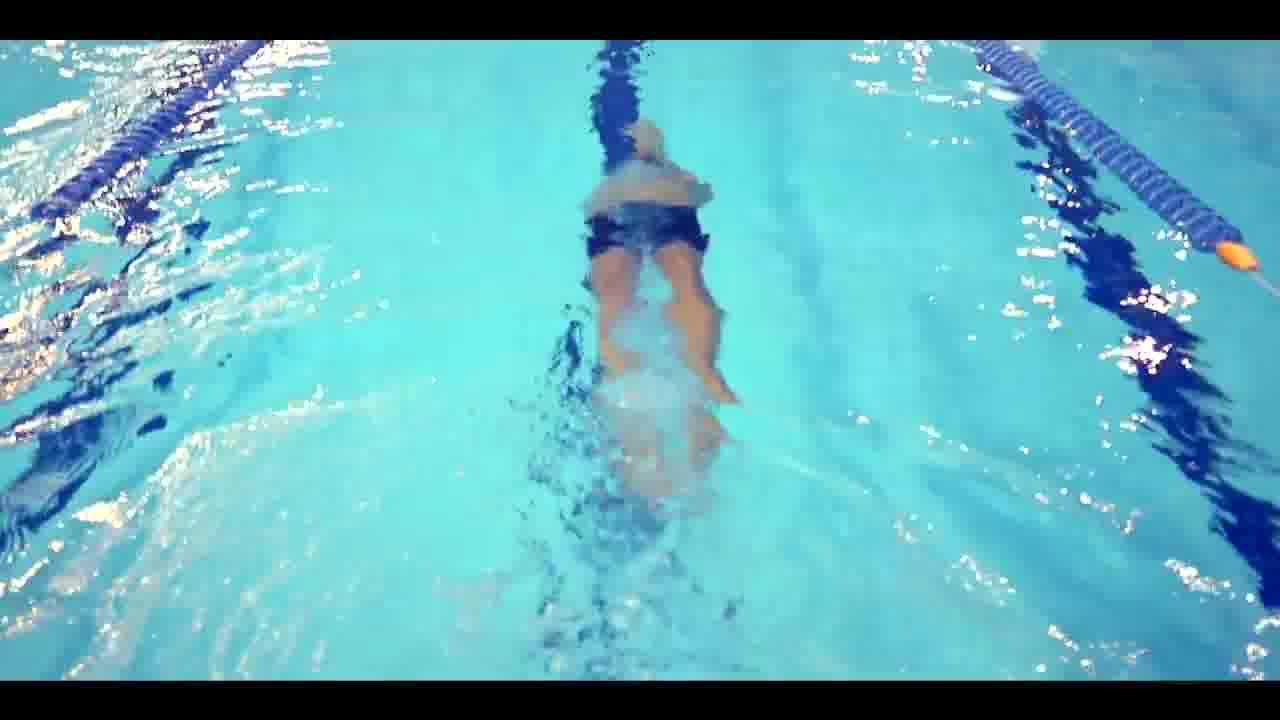swimmer: (575, 112, 765, 522)
